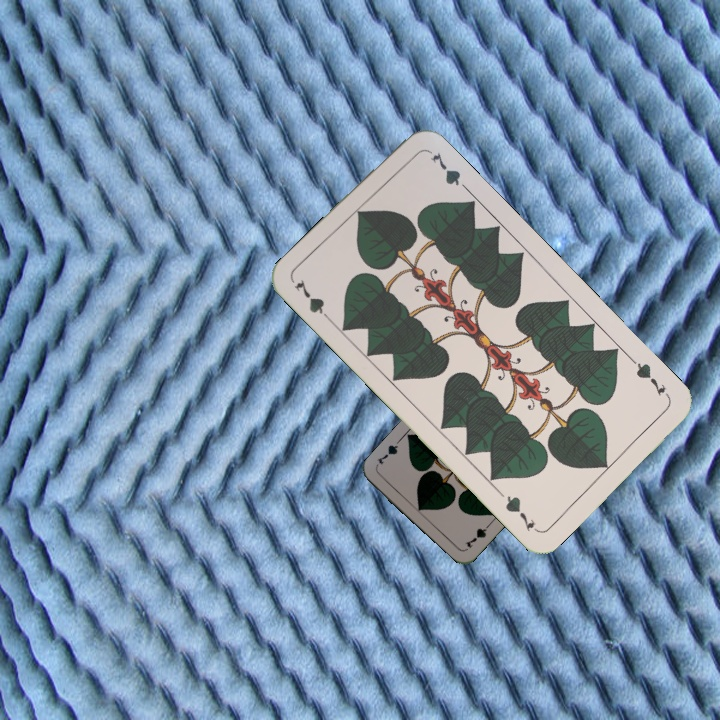G7: (290, 275, 336, 326), (627, 355, 669, 399), (461, 517, 495, 551)
